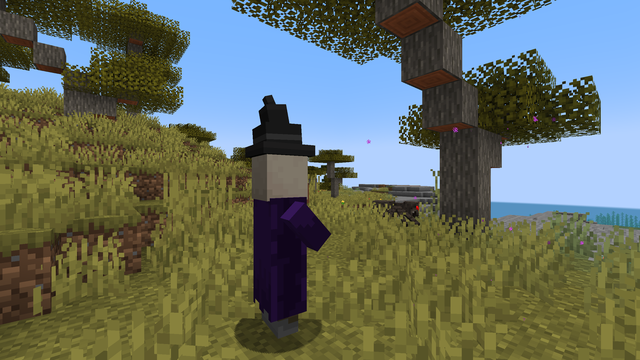araignees: (372, 197, 425, 227)
sorcieres: (242, 145, 316, 349)
